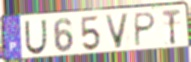5: (79, 15, 102, 52)
6: (52, 17, 74, 55)
P: (134, 12, 158, 49)
T: (161, 8, 182, 47)
U: (24, 18, 48, 56)
V: (103, 12, 131, 50)
